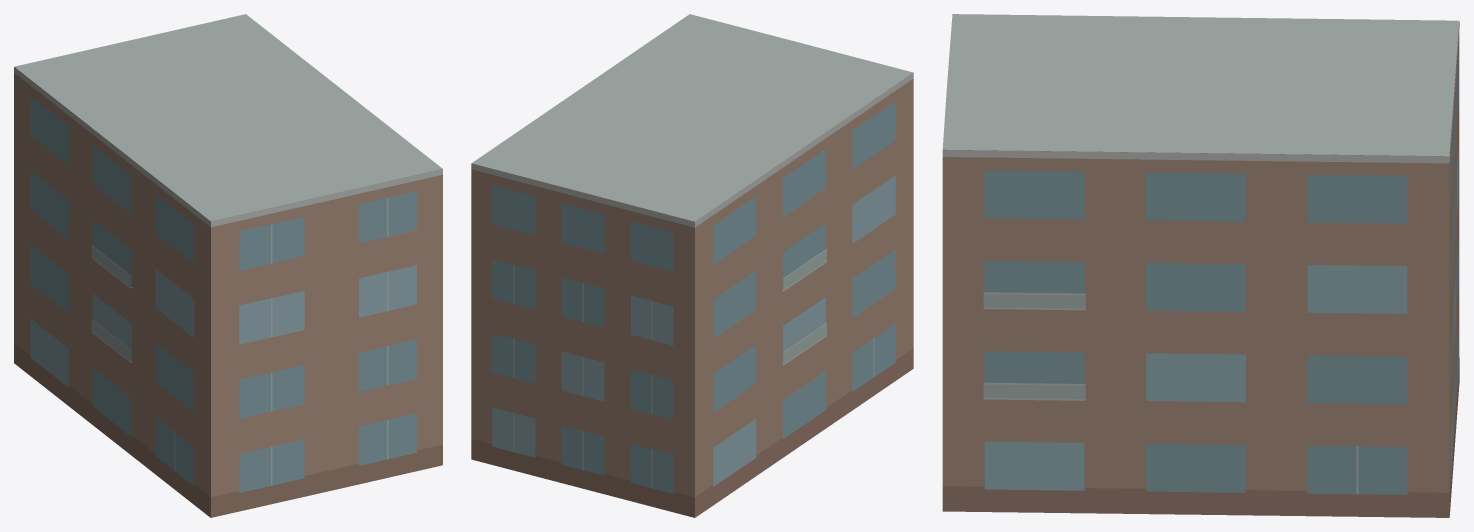
Rendered from residential-ebed003e-4746-4c44-8b72-e4d0281225fd.glb.
The picture shows the model from 3 angles, left to right: view 1: azimuth 30°, elevation 25°; view 2: azimuth 150°, elevation 25°; view 3: azimuth 270°, elevation 25°; orthographic projection. The views are drawn at different scales.
Visible parts, largest first — view 1: residential-ebed003e-4746-4c44-8b72-e4d0281225fd.tmp; view 2: residential-ebed003e-4746-4c44-8b72-e4d0281225fd.tmp; view 3: residential-ebed003e-4746-4c44-8b72-e4d0281225fd.tmp.
Boxes of the visible parts, box(x1,y1,x2,y2) form: residential-ebed003e-4746-4c44-8b72-e4d0281225fd.tmp: box(14, 14, 442, 517); residential-ebed003e-4746-4c44-8b72-e4d0281225fd.tmp: box(471, 14, 913, 517); residential-ebed003e-4746-4c44-8b72-e4d0281225fd.tmp: box(942, 14, 1459, 517).
Bounding box in the file's own units: 10.3 × 12.2 × 15.81.
